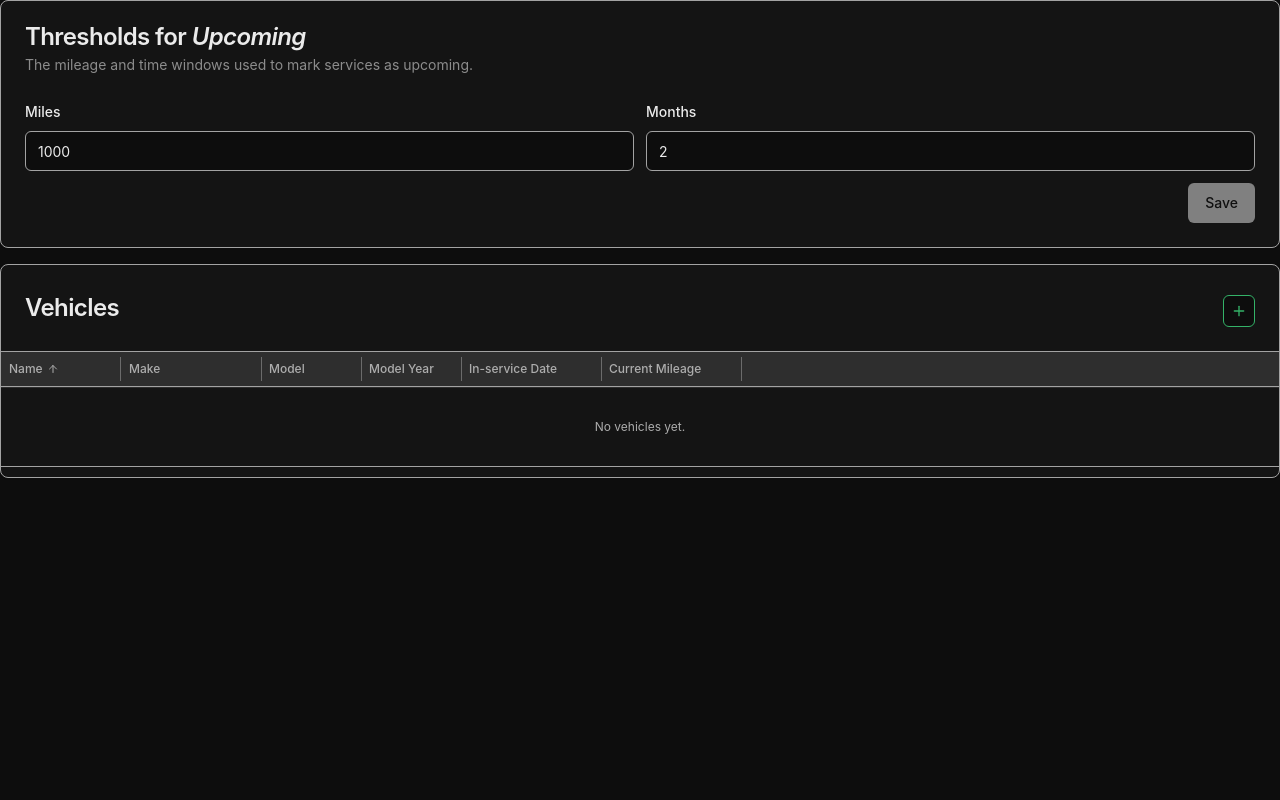
GarageConfigView vehicles grid › requires model year when adding a vehicle
The image size is (1280, 800).
Later steps or results of the test are not shown.
Click the button named "Add vehicle".
click(1239, 311)  # box left=1223, top=295, right=1255, bottom=327
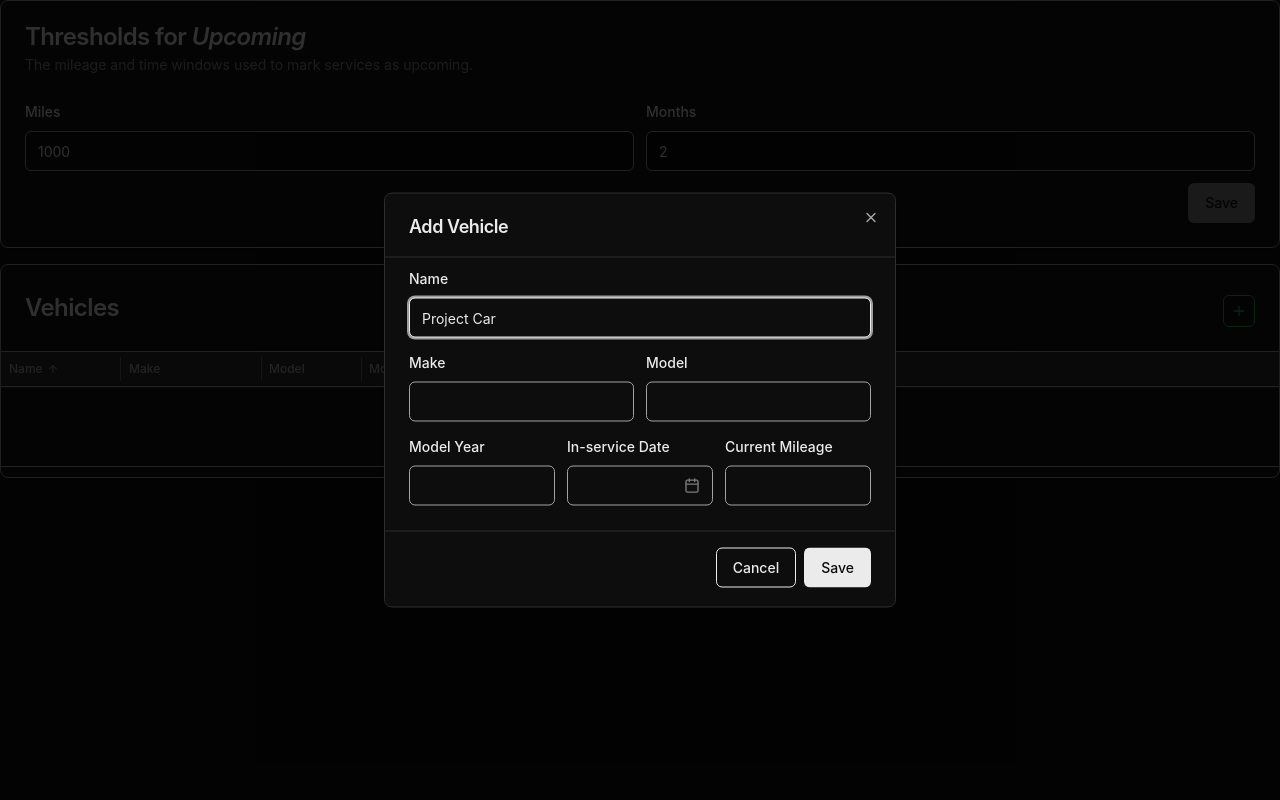
Expected: the field with id "garage-vehicle-name" is shown, left=409, top=298, right=871, bottom=338
Expected: the button "Save" is shown, left=804, top=548, right=871, bottom=588
